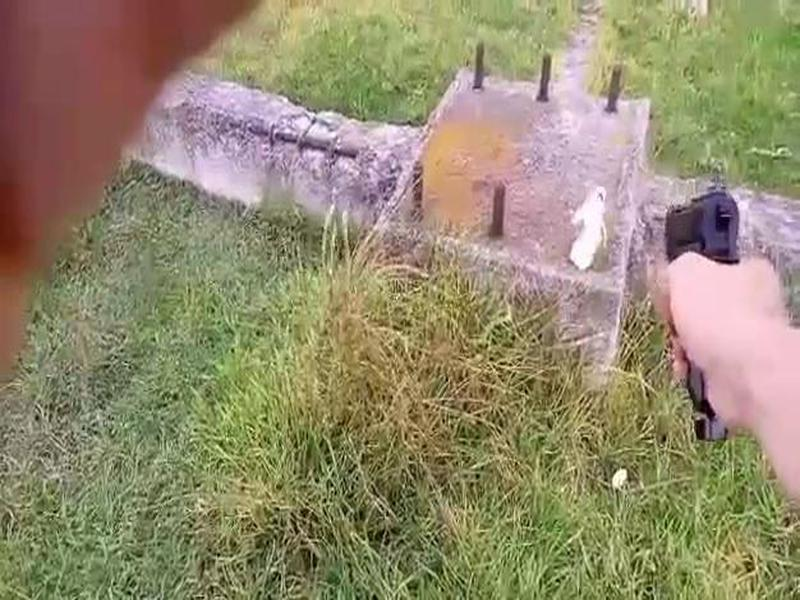Pistola: (657, 173, 750, 407)
